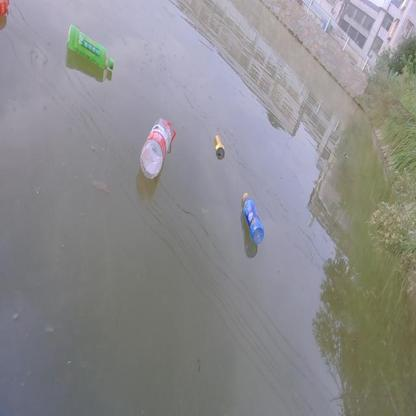can: (214, 134, 225, 157)
plastic bottle: (65, 24, 115, 72), (139, 118, 177, 178), (242, 193, 264, 245)
